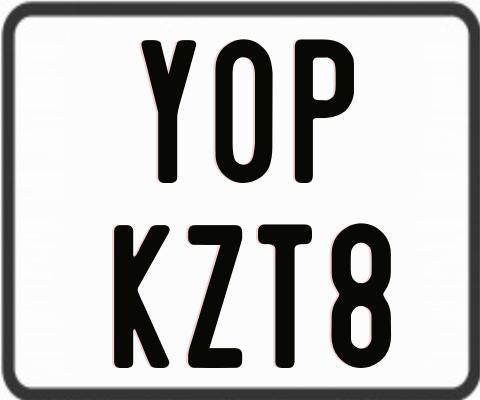0: (212, 39, 276, 185)
8: (330, 223, 395, 373)
K: (114, 225, 172, 374)
P: (295, 39, 358, 184)
T: (256, 222, 316, 367)
Y: (138, 38, 197, 181)
Z: (188, 224, 243, 367)
